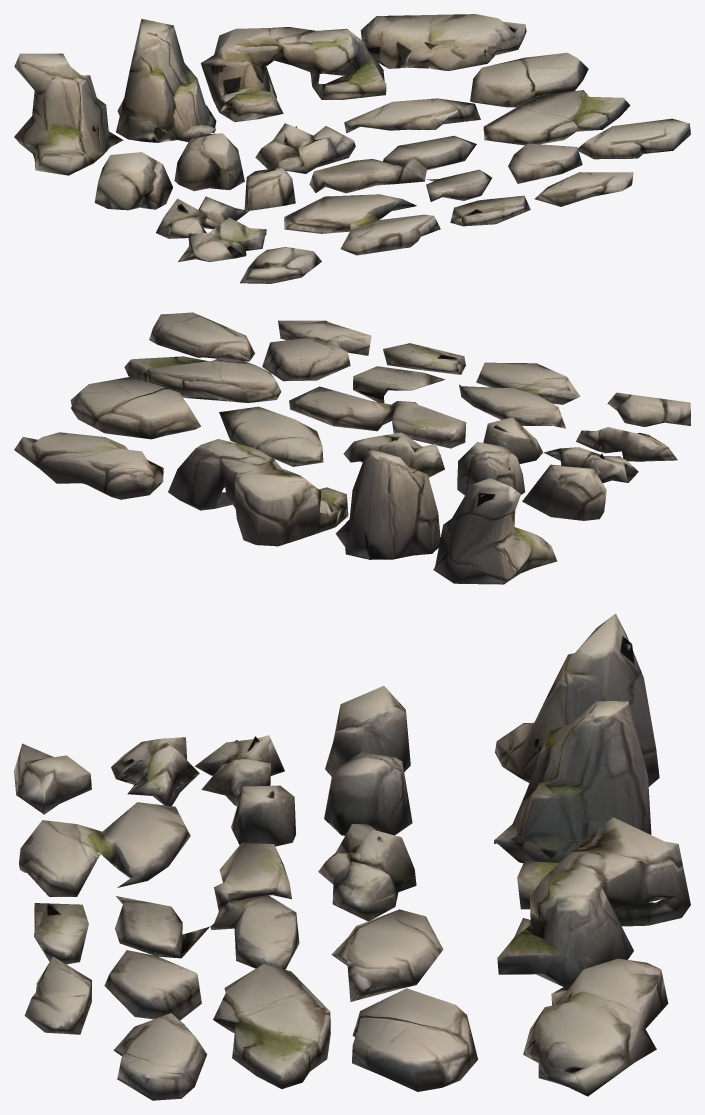
The model's file is Rock_Formation_Collec.glb.
3 renders of one model, top to bottom at view 1: azimuth 30°, elevation 25°; view 2: azimuth 150°, elevation 25°; view 3: azimuth 270°, elevation 25°, orthographic. The views are drawn at different scales.
Parts seen in each view (by area): view 1: Rock_Formation_Collec; view 2: Rock_Formation_Collec; view 3: Rock_Formation_Collec.
Boxes of the visible parts, x1=… form: Rock_Formation_Collec: x1=14, y1=14, x2=690, y2=283; Rock_Formation_Collec: x1=14, y1=312, x2=690, y2=584; Rock_Formation_Collec: x1=14, y1=613, x2=690, y2=1100.
Size of the model in its own units: 1.9 by 0.3349 by 1.47.
1 material, 1 textured.
